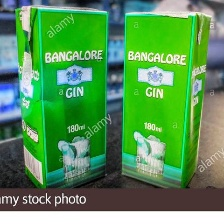carton: (10, 3, 111, 193), (119, 8, 208, 192)
glass: (58, 136, 97, 181), (133, 134, 167, 178)
